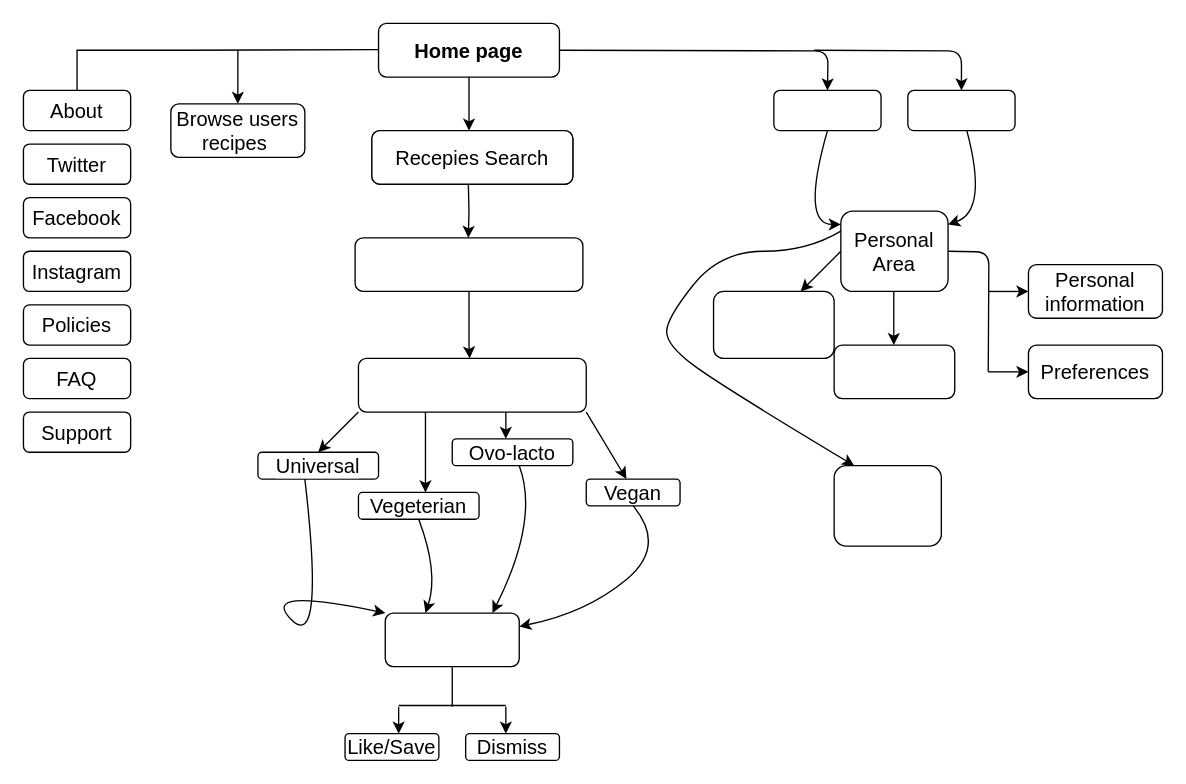
This 1186x784 diagram has some shape labels left out. The shapes that lost their labels are listed below. From the top down, each one's centre as x and y in pixels, then its label:
At (x=827, y=110): "Sign in".
At (x=961, y=110): "Sign up".
At (x=468, y=264): "Products you've found in refrigerator".
At (x=773, y=324): "Feed of selected users".
At (x=471, y=384): "Diet Prefernces".
At (x=894, y=371): "Saved Recepies".
At (x=887, y=505): "Create your recipe & publish it".
At (x=451, y=639): "Result".
